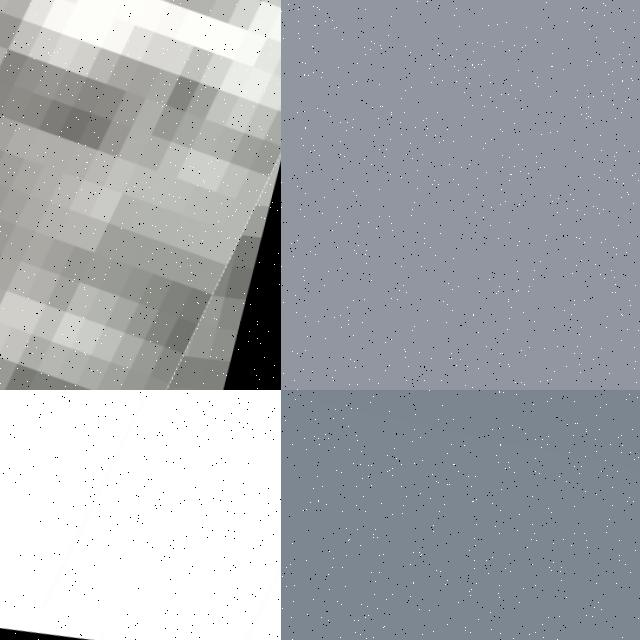0: (0, 0, 281, 390)
drone: (0, 390, 281, 640)
